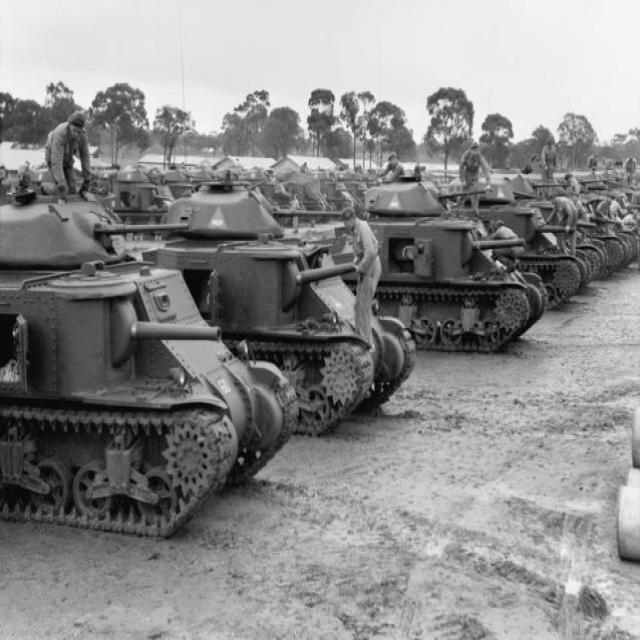MIL_MBT: (9, 200, 288, 555), (171, 160, 397, 449), (358, 171, 536, 376), (481, 171, 591, 329)
